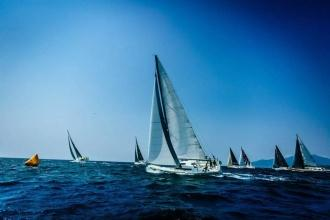fanchuan: (140, 55, 224, 181), (291, 137, 318, 170), (66, 131, 86, 163), (129, 137, 146, 167), (273, 144, 290, 173), (237, 148, 255, 172), (225, 148, 238, 172)
